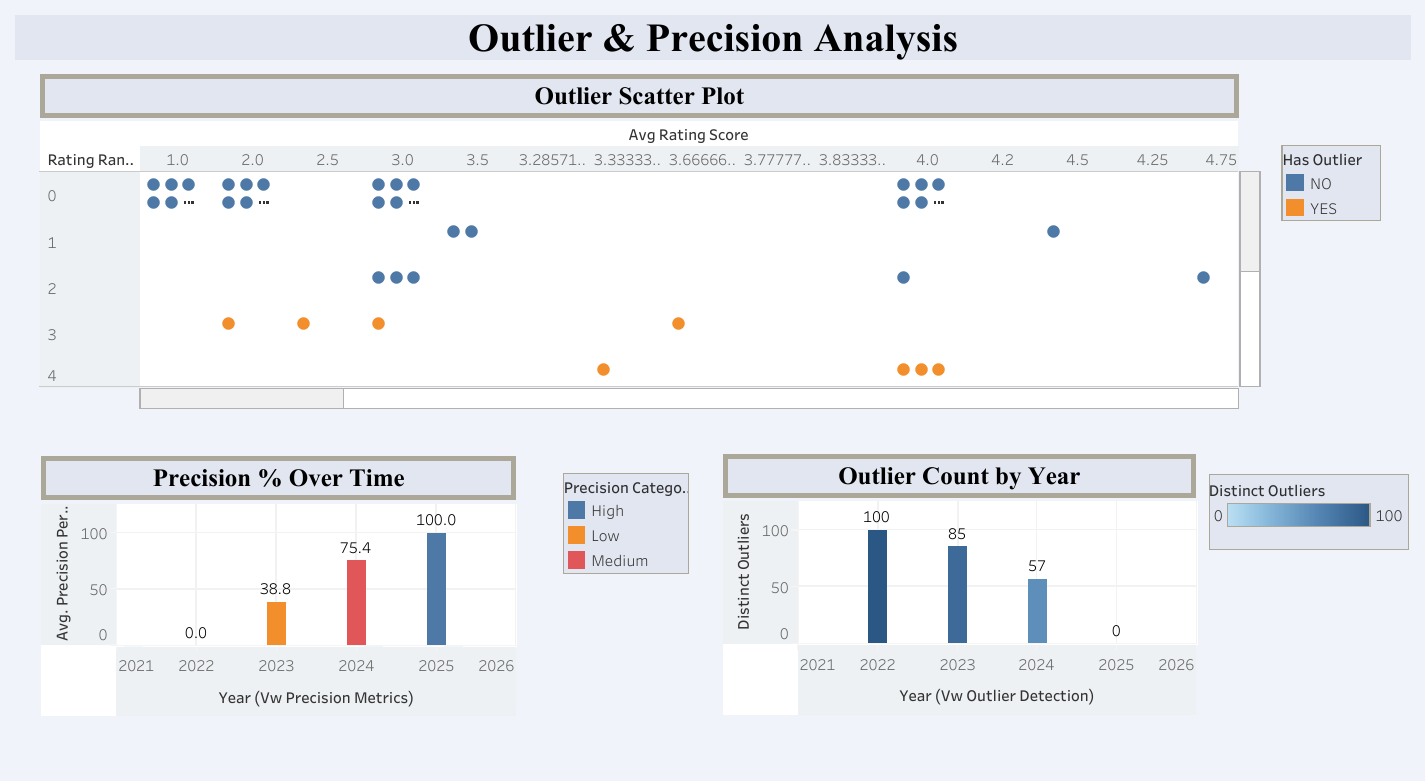

This screenshot's page, from the dashboard's own definition file:
{"tool":"tableau","page":{"name":"Outlier & Precision Analysis","canvas":[1000,1000],"units":"permille","ordinal":0},"visuals":[{"type":"title","box":[4.8,9.4,990.3,62.3]},{"type":"worksheet","title":"Sheet 4","mark":"Circle","rows":["rating_range"],"cols":["avg_rating_score"],"box":[28.4,94,855.8,430.1]},{"type":"legend","title":"Sheet 4","param":"[federated.1f2xbww1778x8z18adtso1bdj9c0].[none:has_outlier:nk]","box":[898,185.7,70,134]},{"type":"worksheet","title":"Sheet 5","mark":"Bar","rows":["Calculation_1098878313683427340"],"cols":["year (vw_outlier_detection)"],"box":[506.3,580.5,332.5,332.6]},{"type":"worksheet","title":"Sheet 6","mark":"Bar","rows":["precision_percentage"],"cols":["year (vw_precision_metrics)"],"box":[29,582.8,333.1,332.6]},{"type":"legend","title":"Sheet 6","param":"[federated.1f2xbww1778x8z18adtso1bdj9c0].[none:Calculation_1098878313685692431:n","box":[394.1,604,88.7,182.1]},{"type":"legend","title":"Sheet 5","param":"[federated.1f2xbww1778x8z18adtso1bdj9c0].[usr:Calculation_1098878313684062222:qk","box":[847.3,605.2,140,110.5]}]}

Visuals, with their boxes on the dashboard's canvas, which has no fixed pixel size, in thousandths of its width and height (x1, y1, x2, y2). These are canvas units, not pixel positions in the 1425x781 screenshot, which may show the page scaled, cropped or inside an application window:
title: select_region(5, 9, 995, 72)
"Sheet 4" worksheet (Circle marks): select_region(28, 94, 884, 524)
"Sheet 4" legend: select_region(898, 186, 968, 320)
"Sheet 5" worksheet (Bar marks): select_region(506, 580, 839, 913)
"Sheet 6" worksheet (Bar marks): select_region(29, 583, 362, 915)
"Sheet 6" legend: select_region(394, 604, 483, 786)
"Sheet 5" legend: select_region(847, 605, 987, 716)
